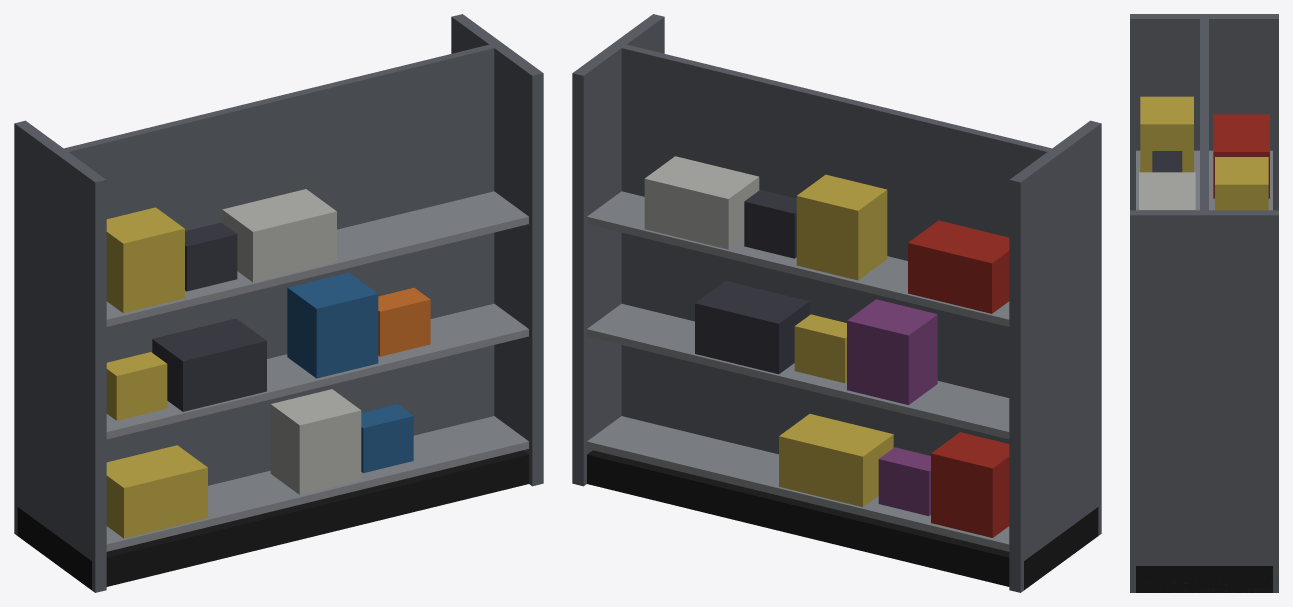
File: shelf_small.glb
3 renders of one model, left to right at view 1: azimuth 30°, elevation 25°; view 2: azimuth 150°, elevation 25°; view 3: azimuth 270°, elevation 25°, orthographic. The views are drawn at different scales.
Visible parts, largest first — view 1: shelf_small; view 2: shelf_small; view 3: shelf_small.
Boxes of the visible parts, left/top/right/bottom form: shelf_small: left=14, top=14, right=543, bottom=592; shelf_small: left=572, top=14, right=1101, bottom=592; shelf_small: left=1130, top=14, right=1278, bottom=592.
Size of the model in its own units: 1.6 by 1.4 by 0.5.
